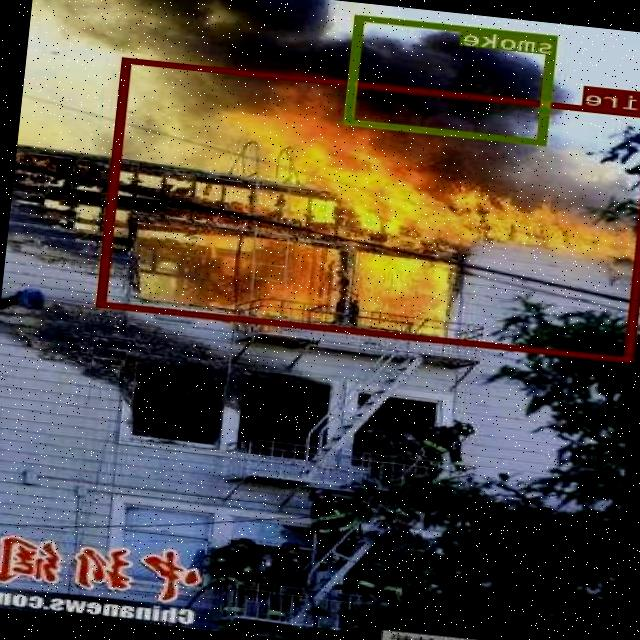fire: (99, 56, 640, 361)
smoke: (346, 14, 559, 144)
